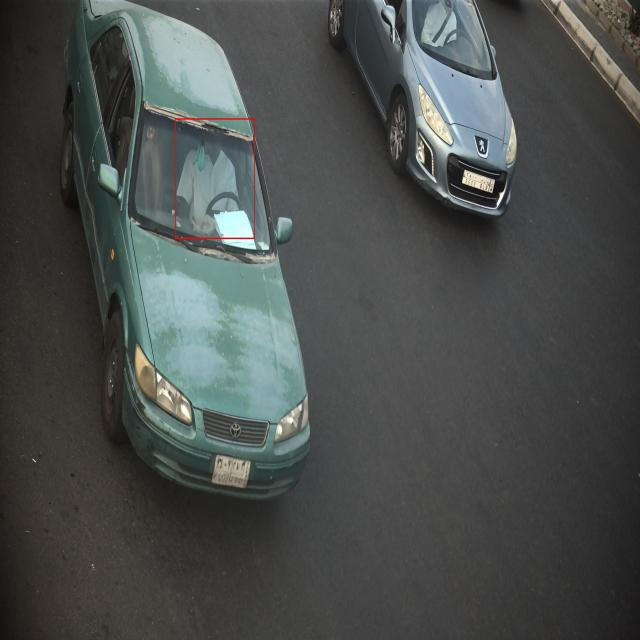windshield: (125, 95, 275, 267), (407, 0, 499, 87)
